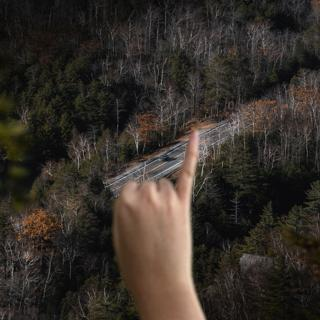Fine: (98, 113, 212, 314)
